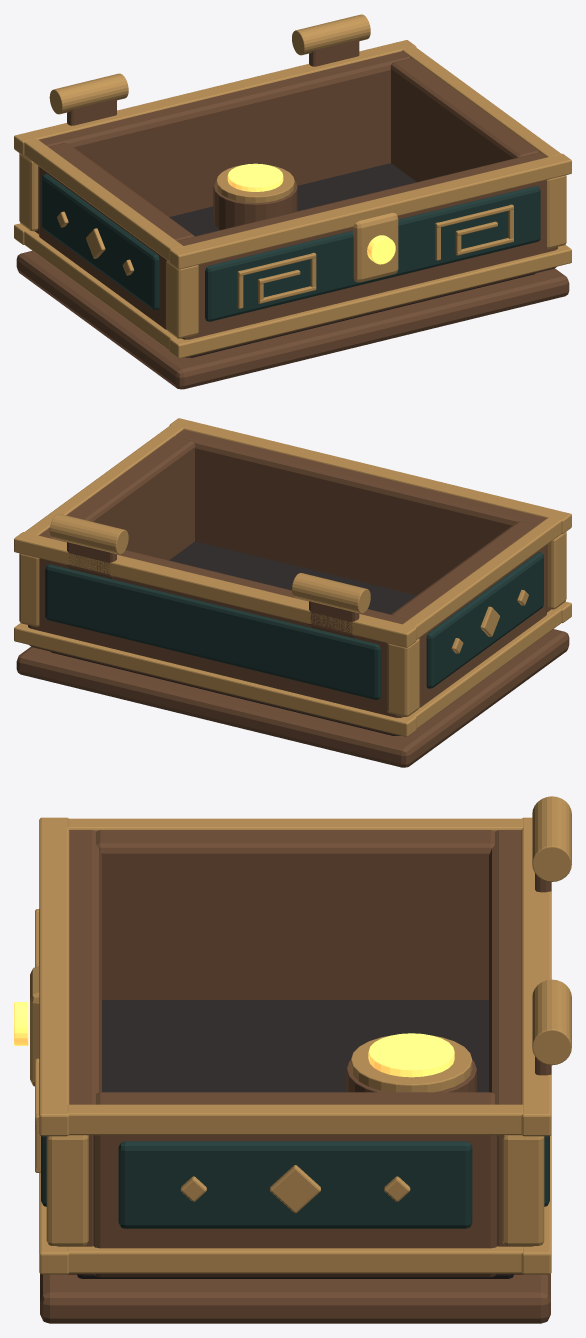
The model's file is pandora_box_body.glb.
The picture shows the model from 3 angles, top to bottom: view 1: azimuth 30°, elevation 25°; view 2: azimuth 150°, elevation 25°; view 3: azimuth 270°, elevation 25°; orthographic projection. The views are drawn at different scales.
Visible parts, largest first — view 1: PandoraBoxBody; view 2: PandoraBoxBody; view 3: PandoraBoxBody.
Boxes of the visible parts, x1,y1,x2,y2 form: PandoraBoxBody: (14,14,571,389); PandoraBoxBody: (14,418,571,767); PandoraBoxBody: (14,796,571,1323).
Bounding box in the file's own units: 0.646 × 0.2655 × 0.5045.
